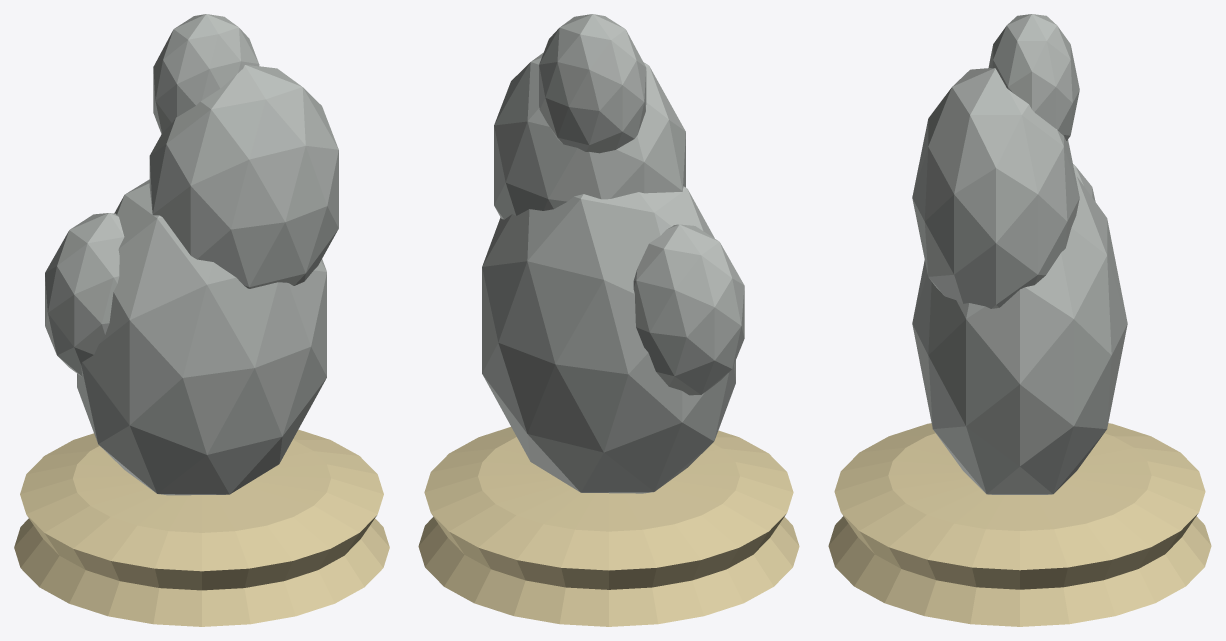
File: prop_scholar_rock.glb
3 views of the same model, side by side, from view 1: azimuth 30°, elevation 25°; view 2: azimuth 150°, elevation 25°; view 3: azimuth 270°, elevation 25° (orthographic).
Parts seen in each view (by area): view 1: prop_scholar_rock/rock_pedestal_00000, prop_scholar_rock/rock_mass_main_00001, prop_scholar_rock/rock_mass_upper_00002, prop_scholar_rock/rock_outcrop_left_00003, prop_scholar_rock/rock_outcrop_peak_00004; view 2: prop_scholar_rock/rock_pedestal_00000, prop_scholar_rock/rock_mass_main_00001, prop_scholar_rock/rock_mass_upper_00002, prop_scholar_rock/rock_outcrop_left_00003, prop_scholar_rock/rock_outcrop_peak_00004; view 3: prop_scholar_rock/rock_pedestal_00000, prop_scholar_rock/rock_mass_main_00001, prop_scholar_rock/rock_mass_upper_00002, prop_scholar_rock/rock_outcrop_peak_00004.
Part boxes in pixels (<box>): prop_scholar_rock/rock_pedestal_00000: <box>14,429,389,626</box>; prop_scholar_rock/rock_mass_main_00001: <box>77,179,326,495</box>; prop_scholar_rock/rock_mass_upper_00002: <box>149,65,338,288</box>; prop_scholar_rock/rock_outcrop_left_00003: <box>45,213,124,376</box>; prop_scholar_rock/rock_outcrop_peak_00004: <box>153,14,259,133</box>; prop_scholar_rock/rock_pedestal_00000: <box>418,427,799,626</box>; prop_scholar_rock/rock_mass_main_00001: <box>482,186,735,493</box>; prop_scholar_rock/rock_mass_upper_00002: <box>494,52,685,219</box>; prop_scholar_rock/rock_outcrop_left_00003: <box>633,224,744,395</box>; prop_scholar_rock/rock_outcrop_peak_00004: <box>539,14,646,153</box>; prop_scholar_rock/rock_pedestal_00000: <box>828,423,1211,626</box>; prop_scholar_rock/rock_mass_main_00001: <box>912,174,1127,494</box>; prop_scholar_rock/rock_mass_upper_00002: <box>912,68,1079,308</box>; prop_scholar_rock/rock_outcrop_peak_00004: <box>988,14,1079,140</box>.
Size of the model in its own units: 0.32 by 0.51 by 0.32.
